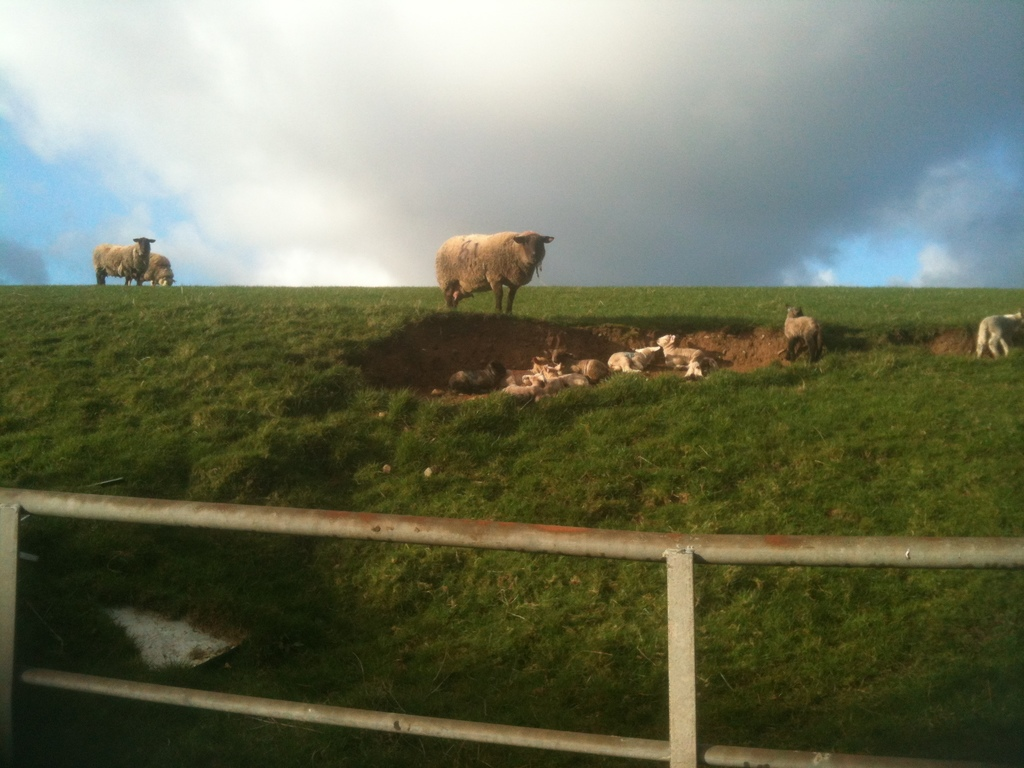sheep: (427, 211, 559, 316), (89, 236, 155, 286), (786, 299, 823, 365)
